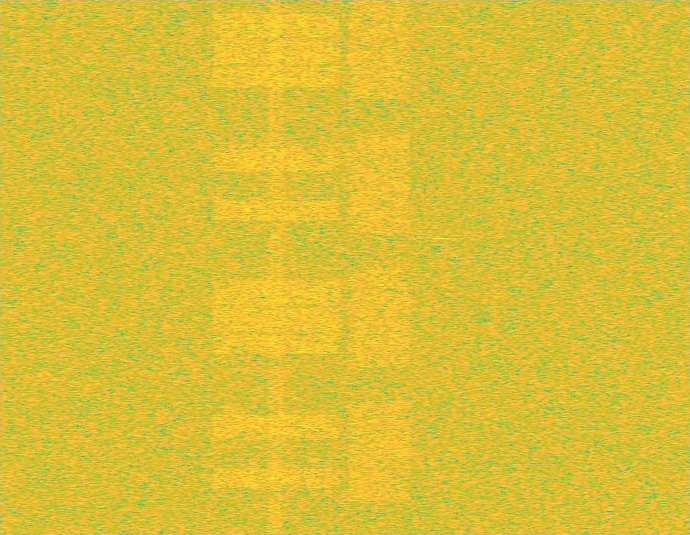5G: (345, 0, 414, 534)
DSSS: (267, 0, 285, 534)
LTE: (207, 0, 345, 534)
Radar: (435, 0, 448, 534)
